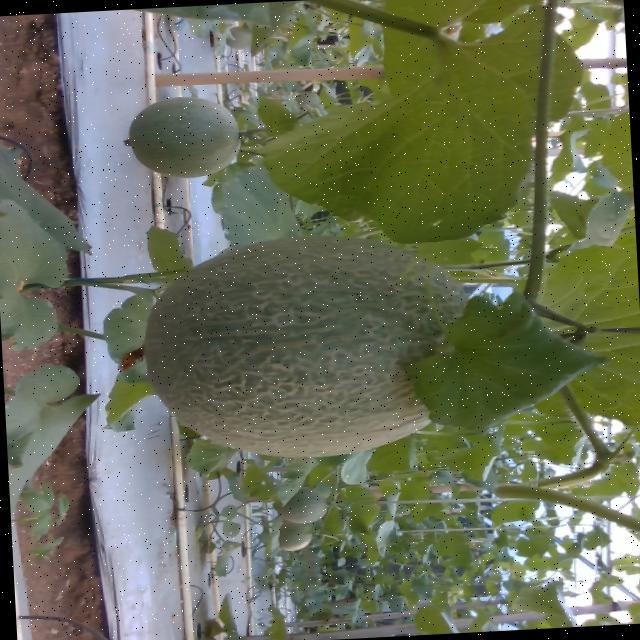melon: (143, 238, 467, 459)
